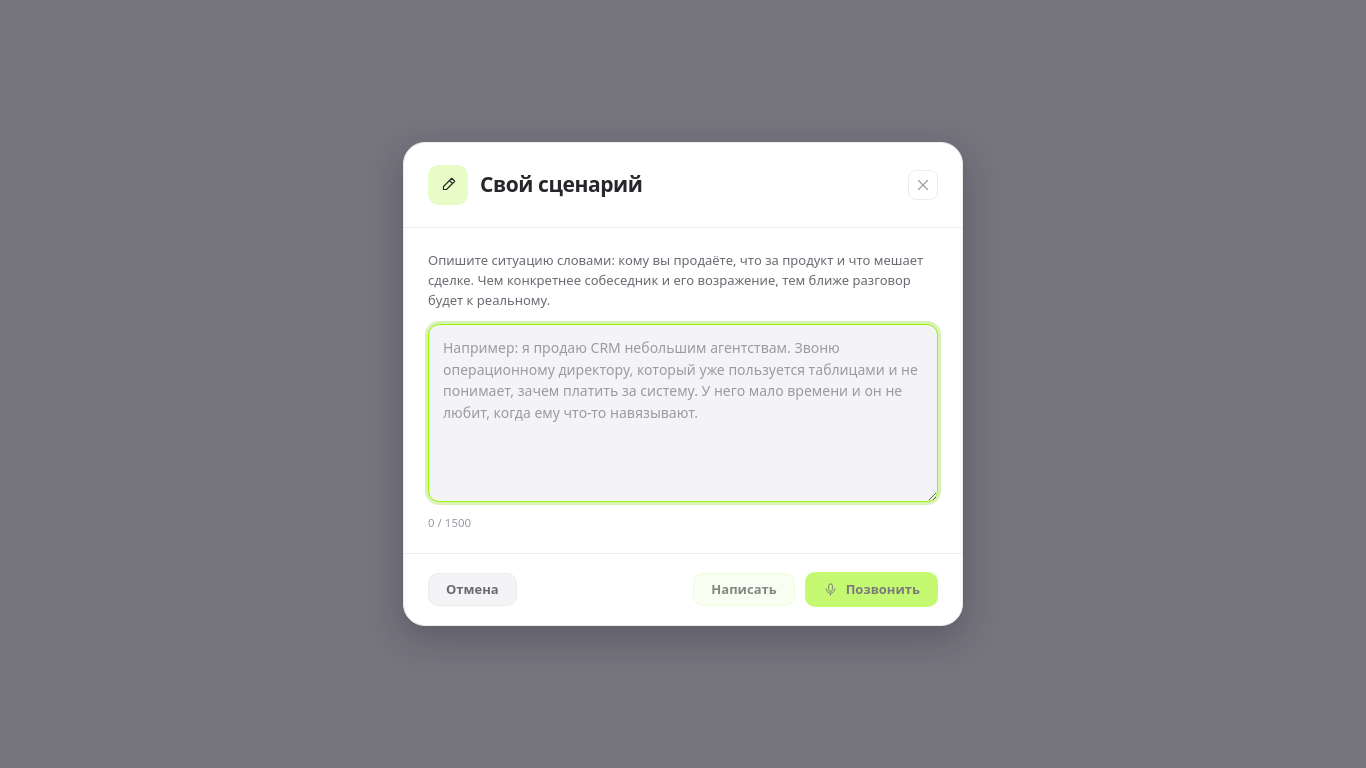
CustomScenarioModal › shows the rejection reason and starts nothing when the scenario is off-topic
Replace the text in the text box with "Я продаю CRM небольшим агентствам. Звоню директору, который пользуется таблицами.". click: (683, 413)
box: top-left (428, 324), bottom-right (938, 502)
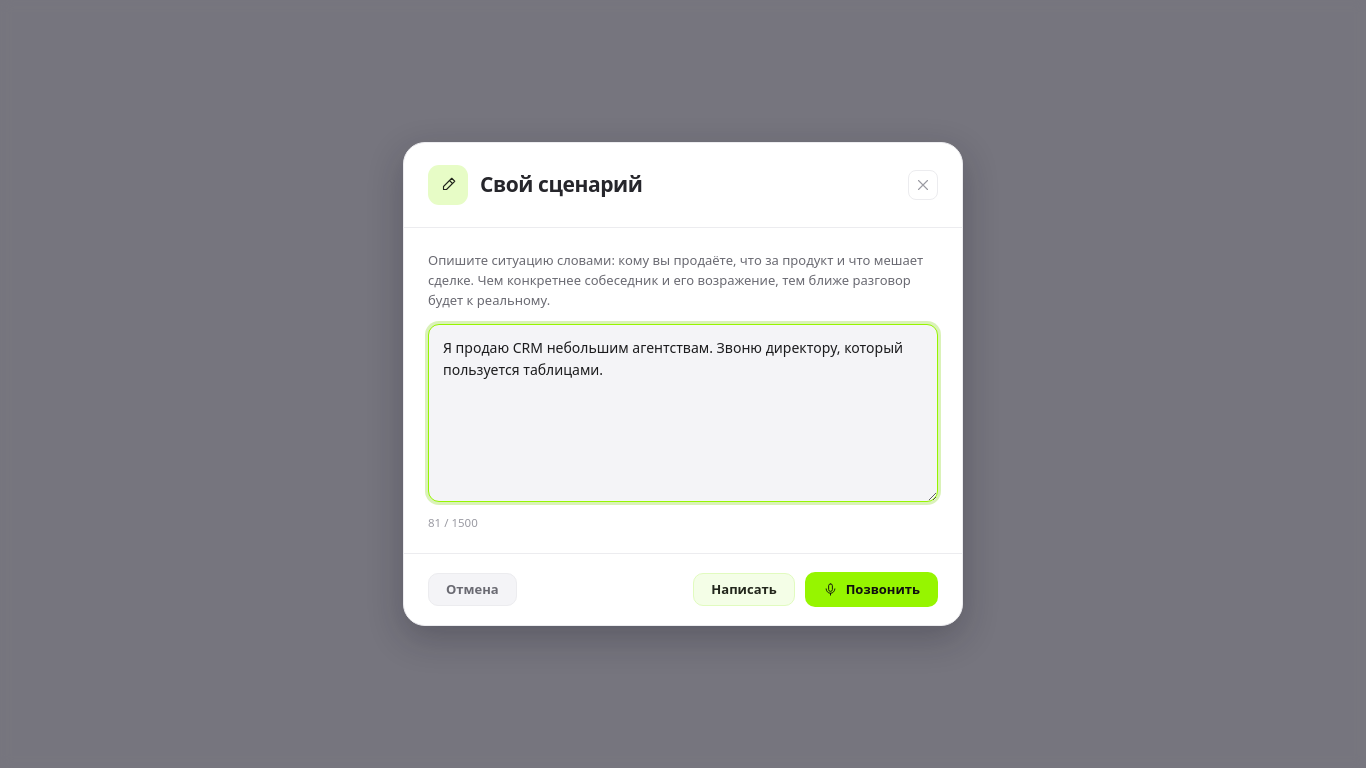
Click the button "Написать". click: (744, 590)
box: top-left (693, 574), bottom-right (795, 606)
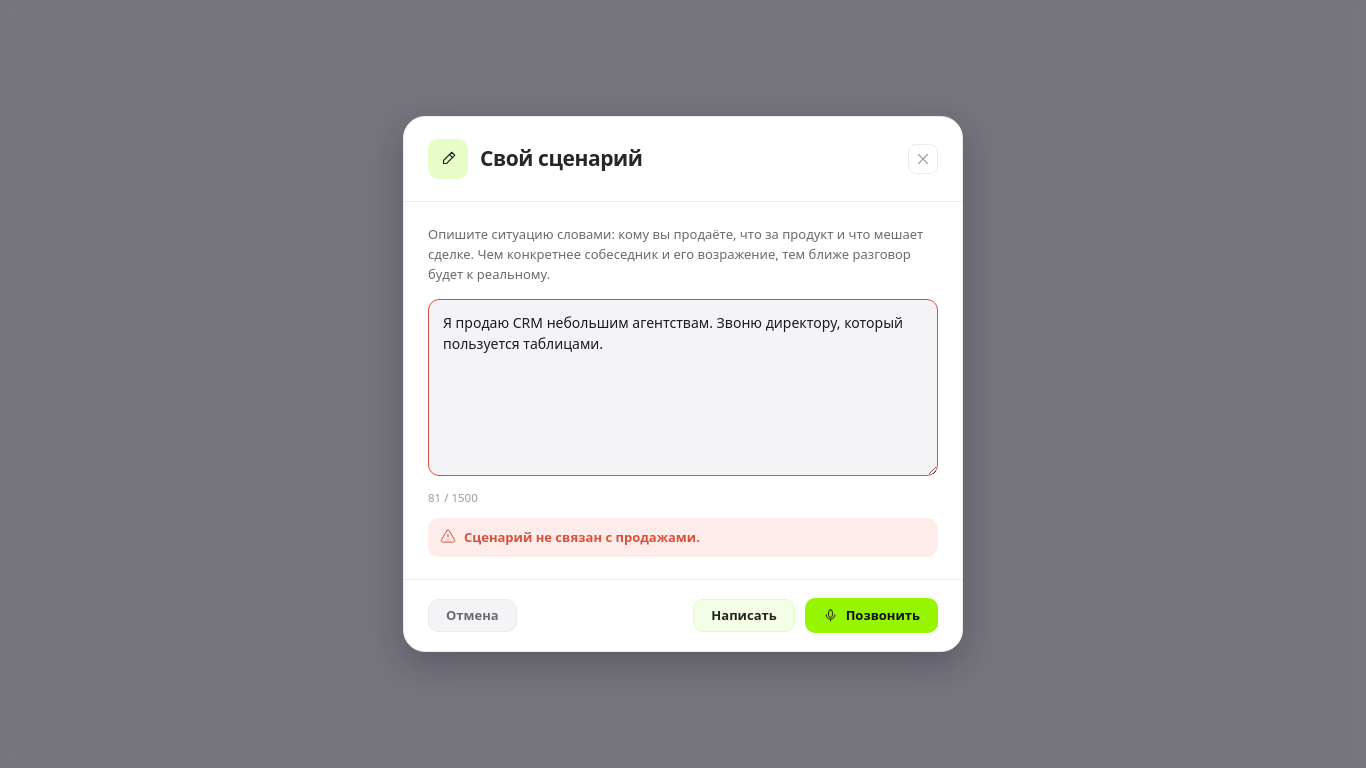
Expected: the text "Сценарий не связан с продажами." is shown, top-left (464, 528), bottom-right (700, 547)
